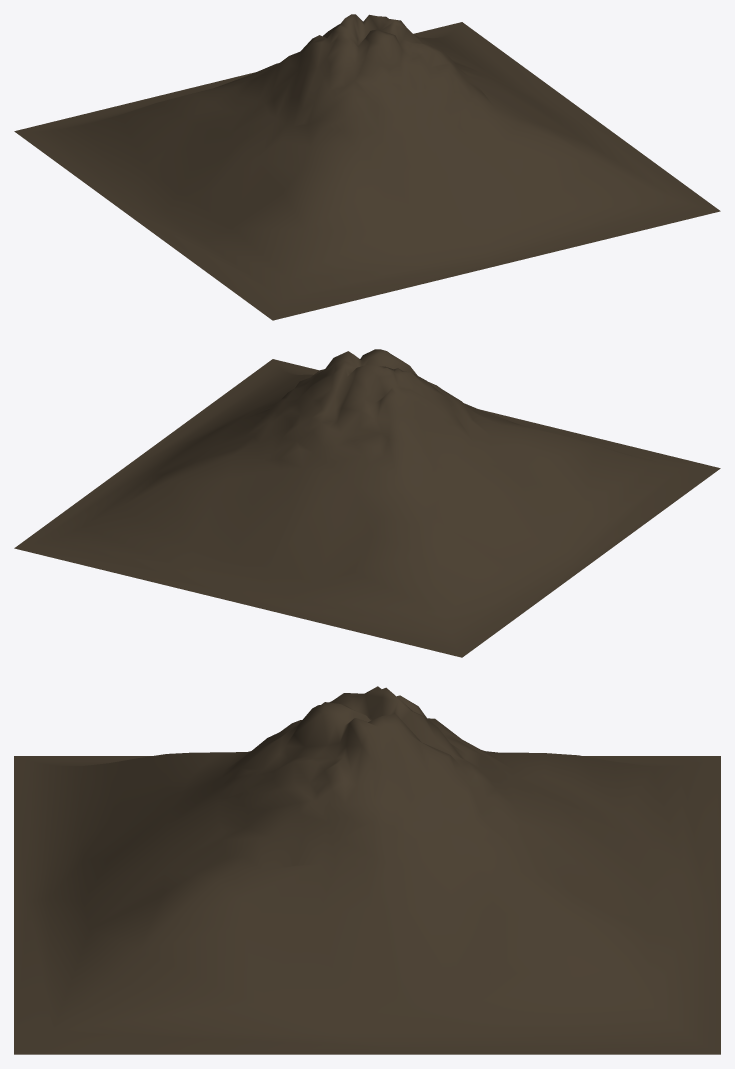
The model's file is mdl_volcano.fbx.
3 renders of one model, top to bottom at view 1: azimuth 30°, elevation 25°; view 2: azimuth 150°, elevation 25°; view 3: azimuth 270°, elevation 25°, orthographic. The views are drawn at different scales.
Parts seen in each view (by area): view 1: Volcano; view 2: Volcano; view 3: Volcano.
Boxes of the visible parts, box(x1,y1,x2,y2) form: Volcano: box(14, 14, 720, 320); Volcano: box(14, 349, 720, 657); Volcano: box(14, 686, 720, 1054).
Bounding box in the file's own units: 4735 × 1532 × 4735.
